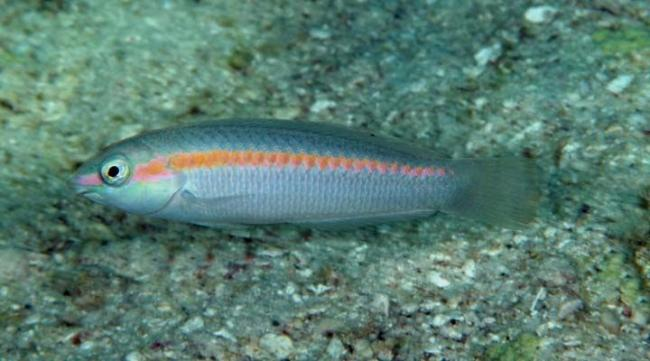fish: (70, 118, 543, 230)
